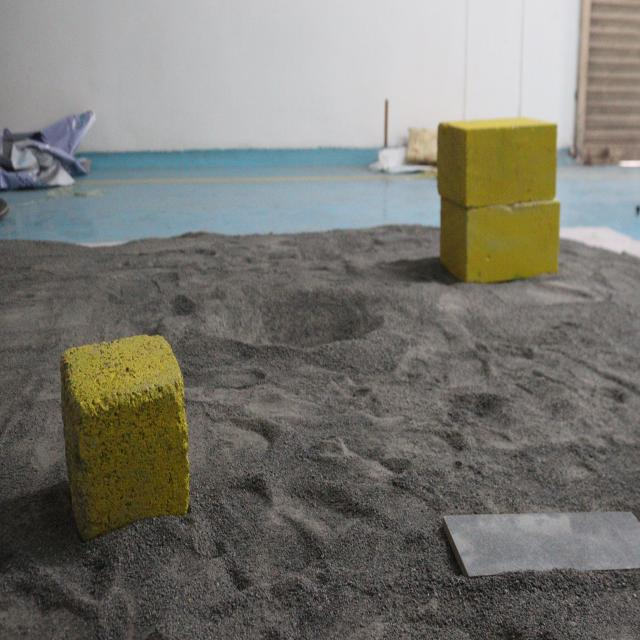box: (54, 332, 198, 548), (431, 114, 564, 290)
crater: (183, 264, 391, 362)
